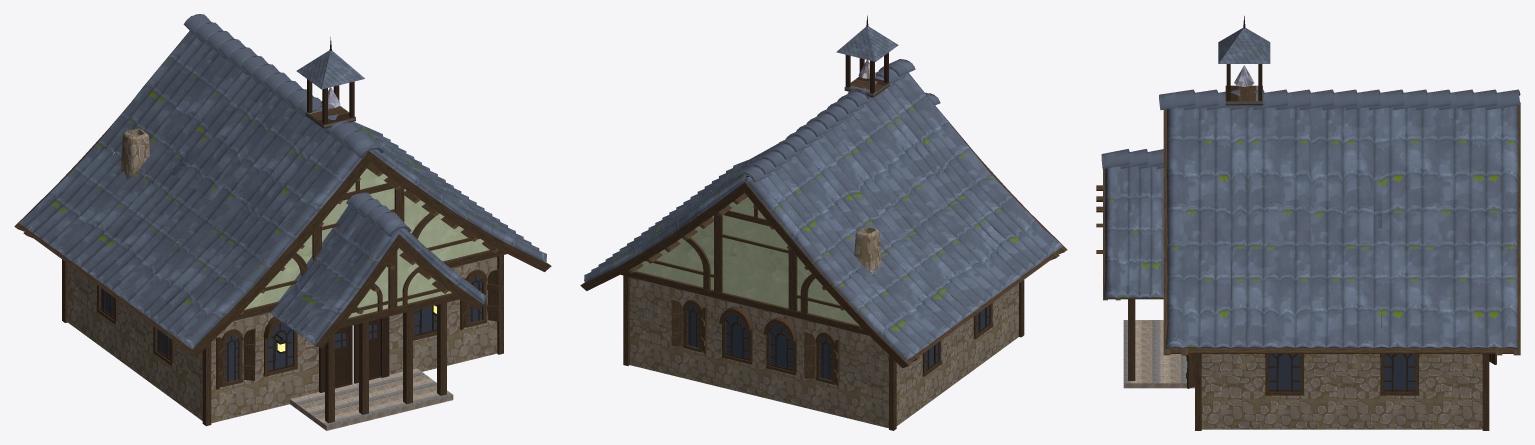
The model's file is meeting_hall.glb.
The picture shows the model from 3 angles, left to right: view 1: azimuth 30°, elevation 25°; view 2: azimuth 150°, elevation 25°; view 3: azimuth 270°, elevation 25°; orthographic projection. The views are drawn at different scales.
Visible parts, largest first — view 1: Roof_RoundTiles_8x10.045, Roof_RoundTiles_4x4.054, Roof_Front_Brick8.046, PorchFloor.048, Roof_Front_Brick4.055, Wall_UnevenBrick_Window_Wide_Round.004, Wall_UnevenBrick_Window_Thin_Round.012, Wall_UnevenBrick_Window_Thin_Round.001, Wall_UnevenBrick_Straight.030, Wall_UnevenBrick_Straight.027, Window_Wide_Round1.005, Wall_UnevenBrick_Door_Round.006 (+23 smaller); view 2: Roof_RoundTiles_8x10.045, Roof_Front_Brick8.047, Wall_UnevenBrick_Straight.015, Wall_UnevenBrick_Straight.026, Wall_UnevenBrick_Window_Wide_Round.021, Wall_UnevenBrick_Window_Thin_Round.023, Wall_UnevenBrick_Window_Thin_Round.016, Wall_UnevenBrick_Window_Wide_Round.019, Window_Wide_Round1.022, Window_Wide_Round1.020, Wall_UnevenBrick_Straight.030, Wall_UnevenBrick_Straight.033 (+14 smaller); view 3: Roof_RoundTiles_8x10.045, Roof_RoundTiles_4x4.054, Wall_UnevenBrick_Straight.037, Wall_UnevenBrick_Straight.034, Wall_UnevenBrick_Straight.040, PorchFloor.048, Wall_UnevenBrick_Window_Wide_Round.035, Wall_UnevenBrick_Window_Wide_Round.038, Window_Wide_Round1.036, Window_Wide_Round1.039, CoteRoof.062, Beam.052 (+3 smaller).
Boxes of the visible parts, left/top/right/bottom form: Roof_RoundTiles_8x10.045: left=14, top=14, right=551, bottom=356; Roof_RoundTiles_4x4.054: left=269, top=192, right=486, bottom=348; Roof_Front_Brick8.046: left=233, top=164, right=506, bottom=320; PorchFloor.048: left=290, top=368, right=453, bottom=430; Roof_Front_Brick4.055: left=339, top=248, right=460, bottom=328; Wall_UnevenBrick_Window_Wide_Round.004: left=255, top=312, right=304, bottom=412; Wall_UnevenBrick_Window_Thin_Round.012: left=451, top=256, right=497, bottom=364; Wall_UnevenBrick_Window_Thin_Round.001: left=211, top=315, right=255, bottom=423; Wall_UnevenBrick_Straight.030: left=122, top=304, right=150, bottom=382; Wall_UnevenBrick_Straight.027: left=68, top=264, right=94, bottom=341; Window_Wide_Round1.005: left=263, top=316, right=297, bottom=376; Wall_UnevenBrick_Door_Round.006: left=304, top=313, right=401, bottom=395; Roof_RoundTiles_8x10.045: left=580, top=59, right=1067, bottom=368; Roof_Front_Brick8.047: left=620, top=193, right=868, bottom=335; Wall_UnevenBrick_Straight.015: left=629, top=277, right=671, bottom=375; Wall_UnevenBrick_Straight.026: left=848, top=330, right=888, bottom=428; Wall_UnevenBrick_Window_Wide_Round.021: left=759, top=308, right=804, bottom=407; Wall_UnevenBrick_Window_Thin_Round.023: left=803, top=319, right=848, bottom=418; Wall_UnevenBrick_Window_Thin_Round.016: left=670, top=287, right=715, bottom=385; Wall_UnevenBrick_Window_Wide_Round.019: left=715, top=298, right=759, bottom=396; Window_Wide_Round1.022: left=763, top=317, right=797, bottom=375; Window_Wide_Round1.020: left=719, top=306, right=752, bottom=364; Wall_UnevenBrick_Straight.030: left=944, top=320, right=969, bottom=391; Wall_UnevenBrick_Straight.033: left=995, top=283, right=1018, bottom=353; Roof_RoundTiles_8x10.045: left=1159, top=89, right=1520, bottom=355; Roof_RoundTiles_4x4.054: left=1101, top=149, right=1163, bottom=300; Wall_UnevenBrick_Straight.037: left=1313, top=354, right=1370, bottom=429; Wall_UnevenBrick_Straight.034: left=1201, top=354, right=1255, bottom=429; Wall_UnevenBrick_Straight.040: left=1428, top=354, right=1482, bottom=429; PorchFloor.048: left=1123, top=320, right=1194, bottom=388; Wall_UnevenBrick_Window_Wide_Round.035: left=1256, top=354, right=1313, bottom=429; Wall_UnevenBrick_Window_Wide_Round.038: left=1371, top=354, right=1428, bottom=429; Window_Wide_Round1.036: left=1264, top=354, right=1304, bottom=395; Window_Wide_Round1.039: left=1380, top=354, right=1419, bottom=395; CoteRoof.062: left=1218, top=28, right=1270, bottom=63; Beam.052: left=1128, top=299, right=1135, bottom=380.
Size of the model in its own units: 14.93 by 13.16 by 14.75.
9 materials, 6 textured.
